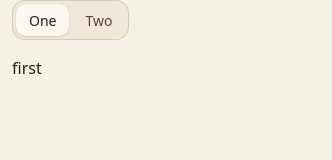
Test case: Navigation › tabs switch content
expect the text "first" is shown: met, box [12,57,42,79]
Click the tab "Two": (99, 20) [72,4,126,36]
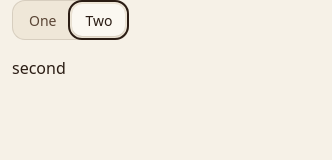
expect the text "second" is shown: met, box [12,57,66,79]
